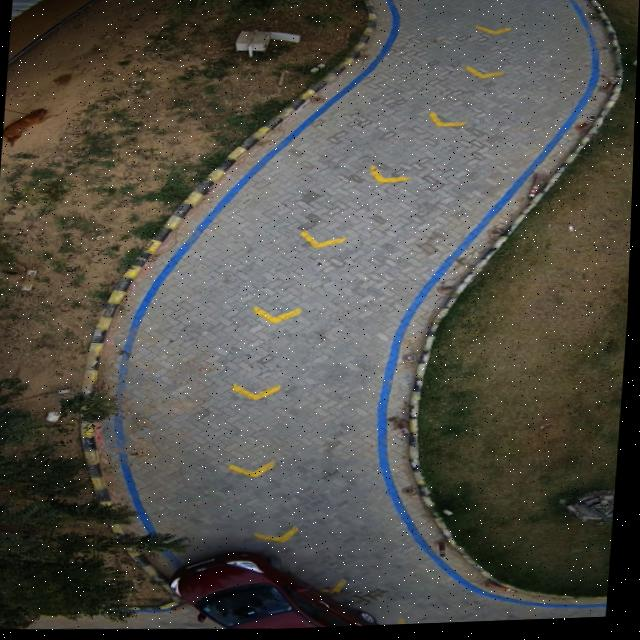car: (174, 558, 373, 631)
